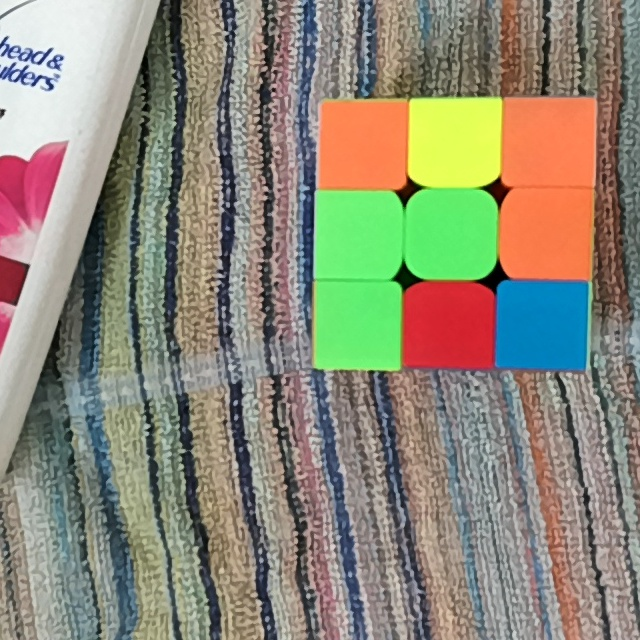tile: (511, 101, 593, 182), (505, 284, 585, 364), (508, 194, 585, 275), (416, 101, 493, 180), (319, 287, 396, 366), (325, 107, 402, 185), (319, 195, 393, 273), (417, 196, 490, 270), (412, 288, 486, 360)
